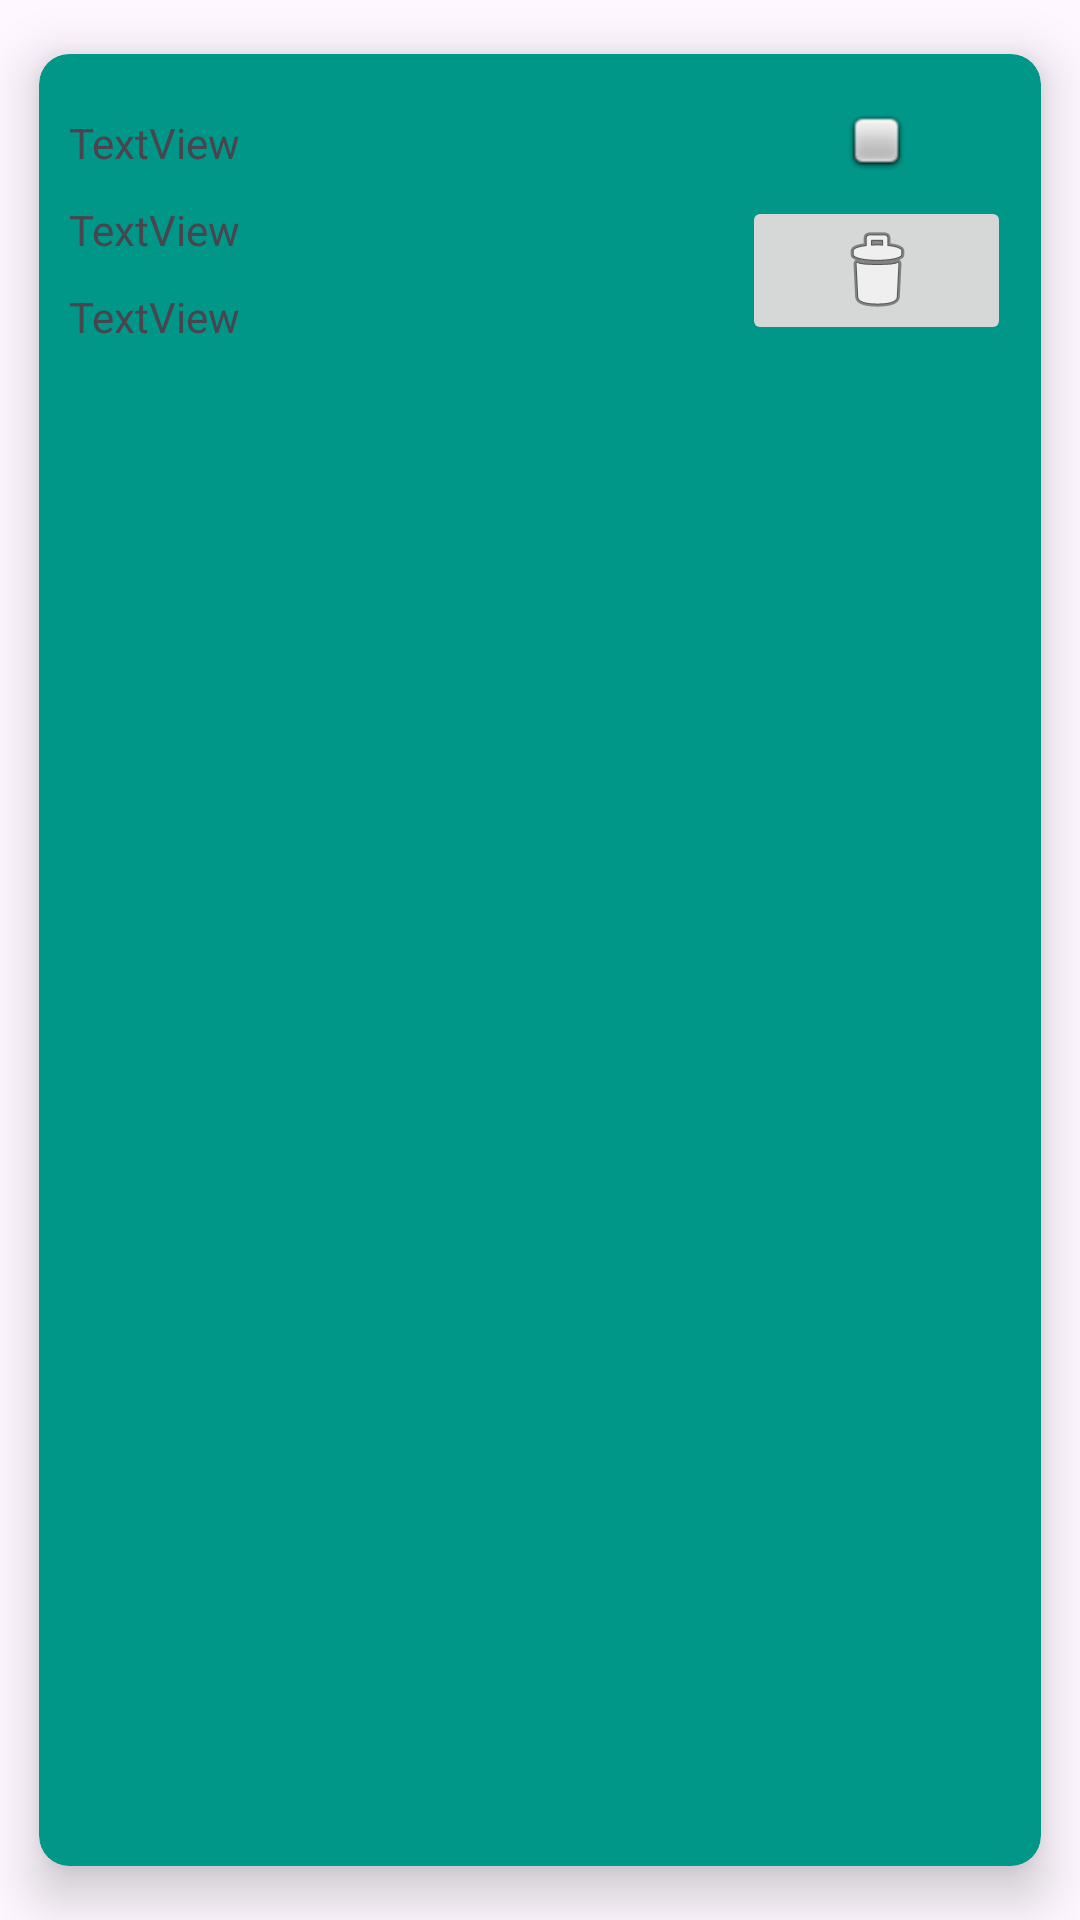

Where icons sit on this 1080x1920 app screen, as (x1, y1, x2, y2):
delete: (754, 214, 999, 327)
